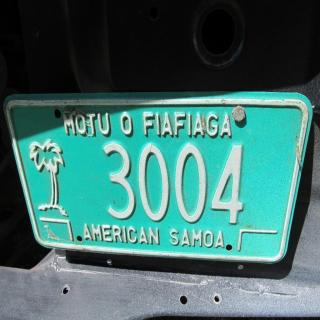license: (4, 92, 314, 265)
